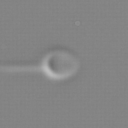normal: (1, 60, 45, 79)
